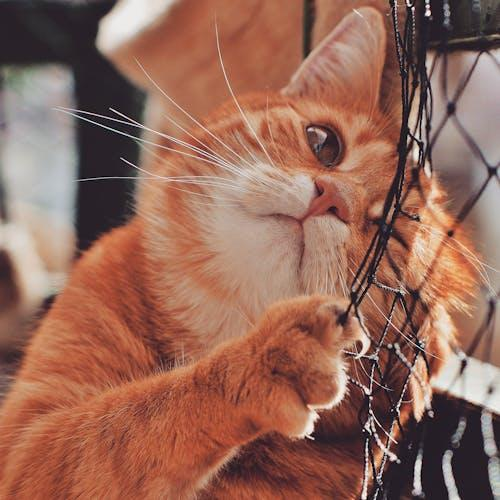kedo: (3, 8, 467, 500)
